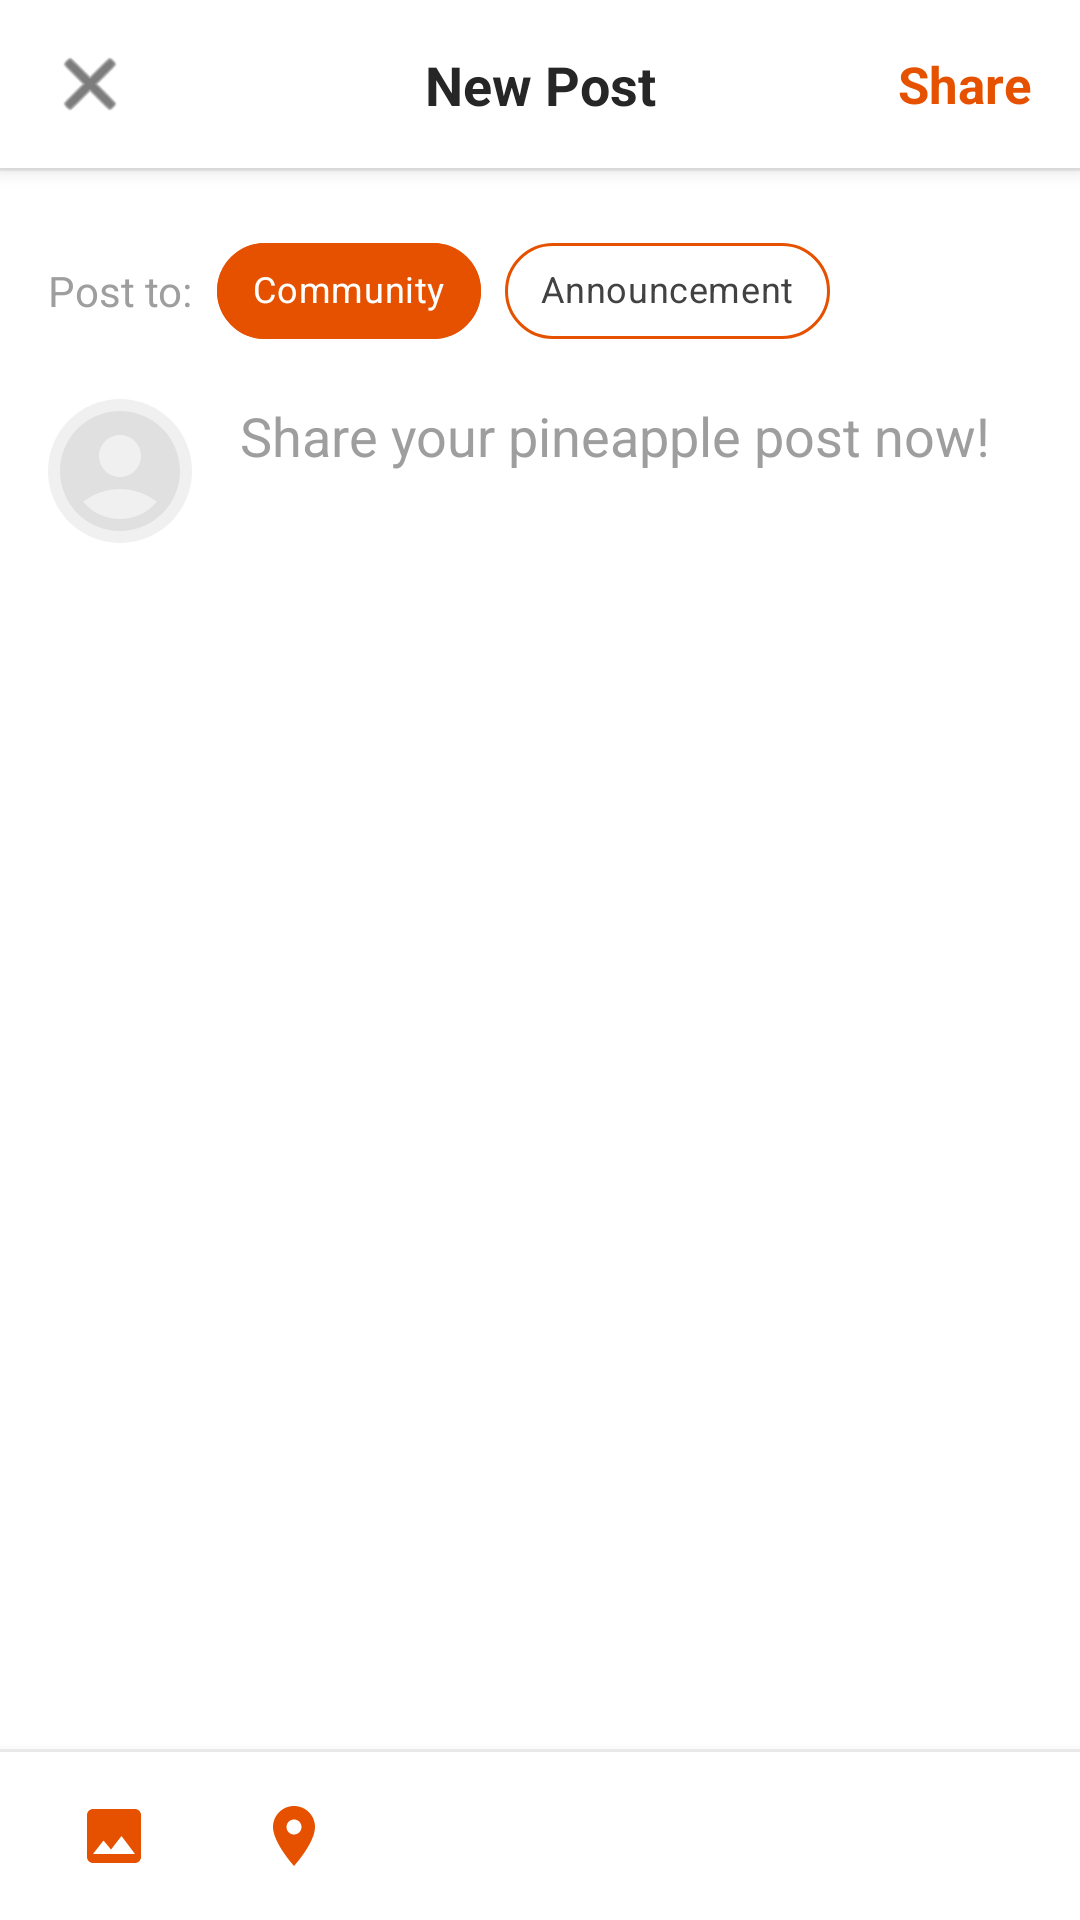

Named icons in this screenshot (1080*1920) and their bounding boxes, (x1, y1, x2, y2):
add location: (273, 1806, 315, 1866)
close button for feed post fragment: (64, 58, 116, 110)
